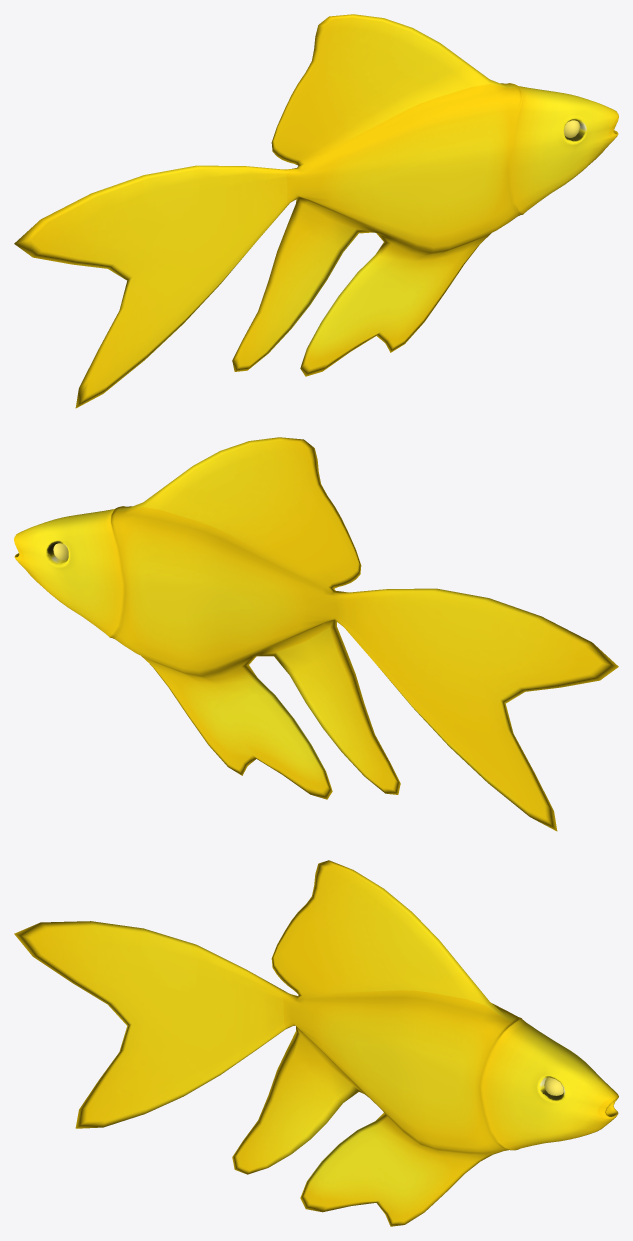
File: Golden_Fish_OBJ.obj
The picture shows the model from 3 angles, top to bottom: view 1: azimuth 30°, elevation 25°; view 2: azimuth 150°, elevation 25°; view 3: azimuth 330°, elevation 25°; orthographic projection.
Parts seen in each view (by area): view 1: Box01; view 2: Box01; view 3: Box01.
Boxes of the visible parts, bbox=[...] form: Box01: bbox=[14, 14, 618, 408]; Box01: bbox=[14, 437, 618, 831]; Box01: bbox=[14, 860, 618, 1226].
Size of the model in its own units: 79.07 by 44.4 by 6.44.
1 material, 1 textured.
